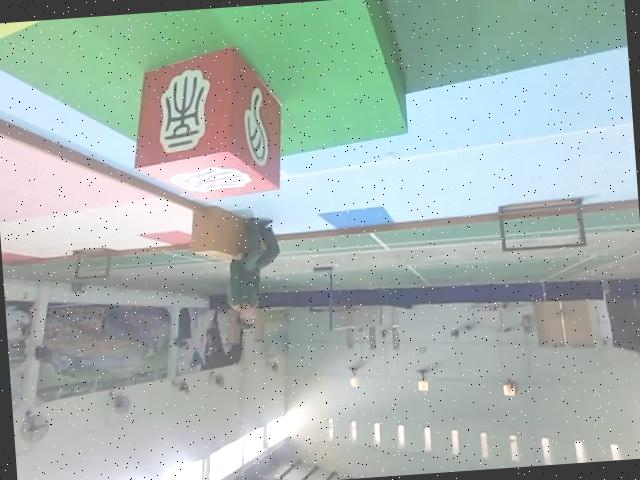R2 Fake: (124, 42, 288, 202)
